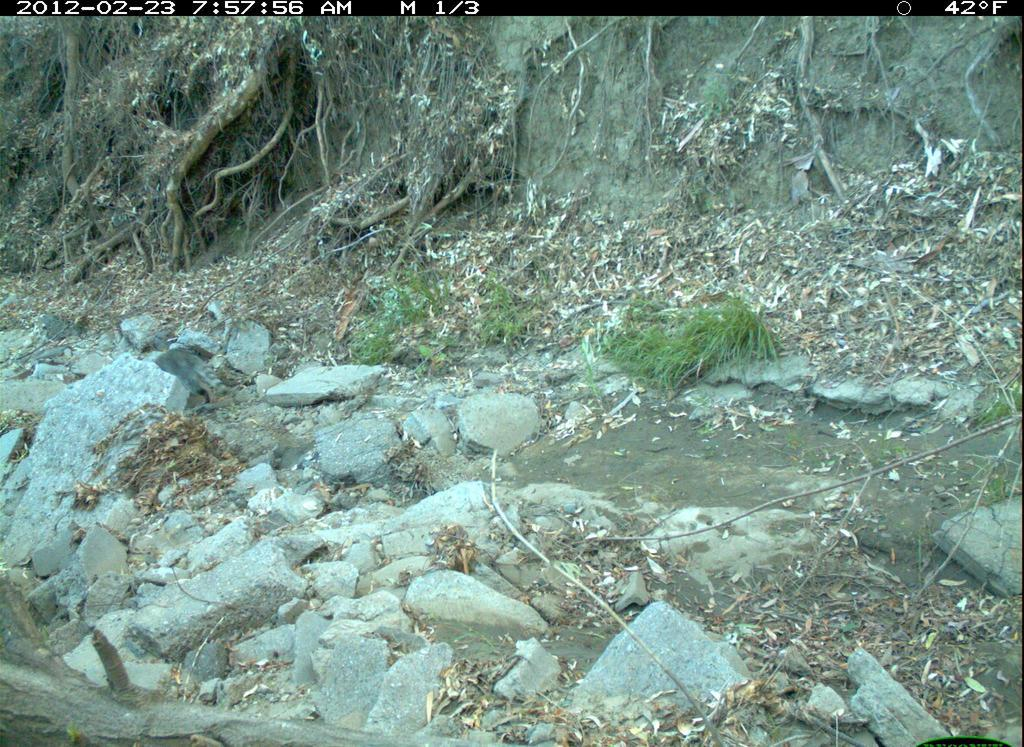raccoon: (146, 346, 230, 409)
